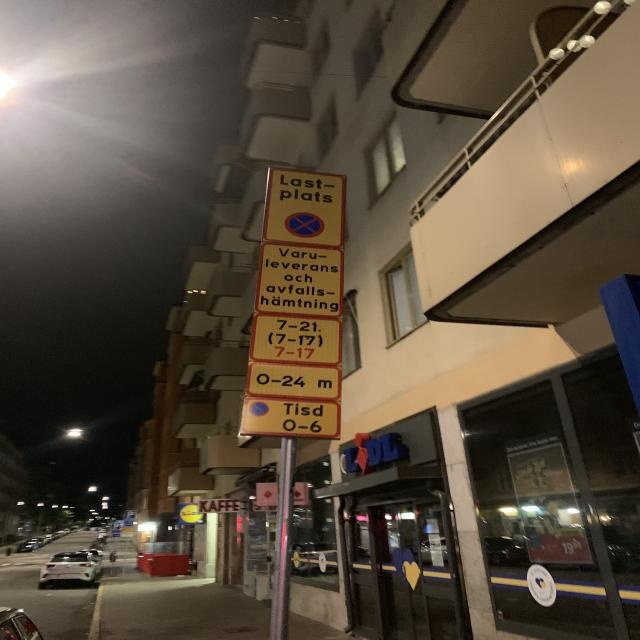lastplats: (268, 164, 345, 248)
